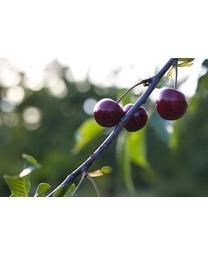cherry: (155, 86, 188, 122), (93, 98, 123, 128), (120, 104, 149, 132)
